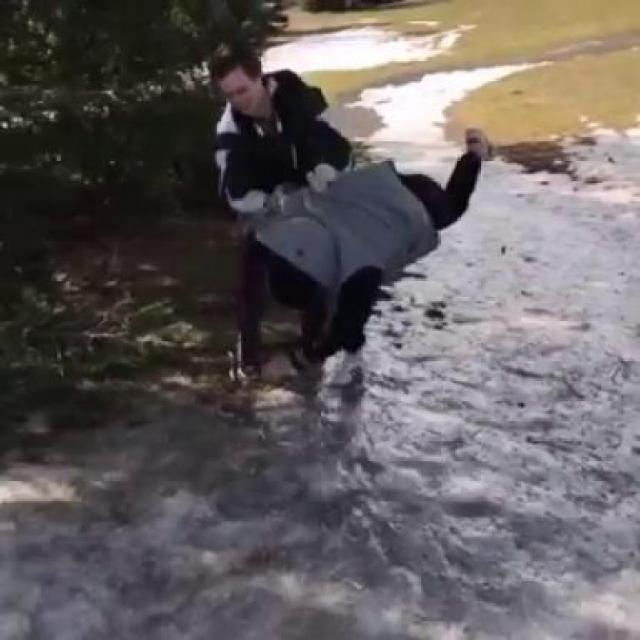fall: (258, 136, 502, 376)
